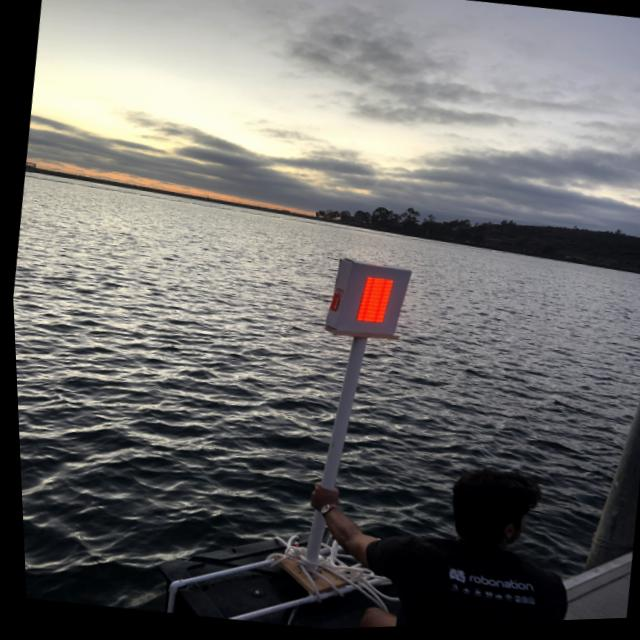led: (346, 268, 400, 345)
